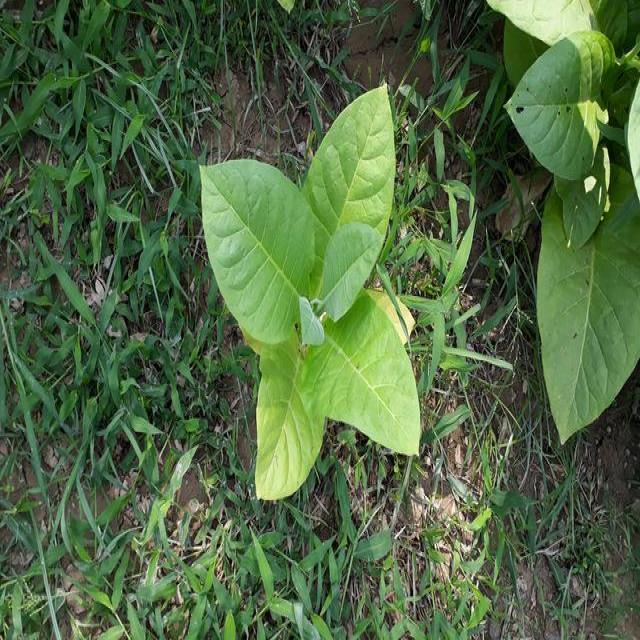crop: (189, 75, 430, 500)
